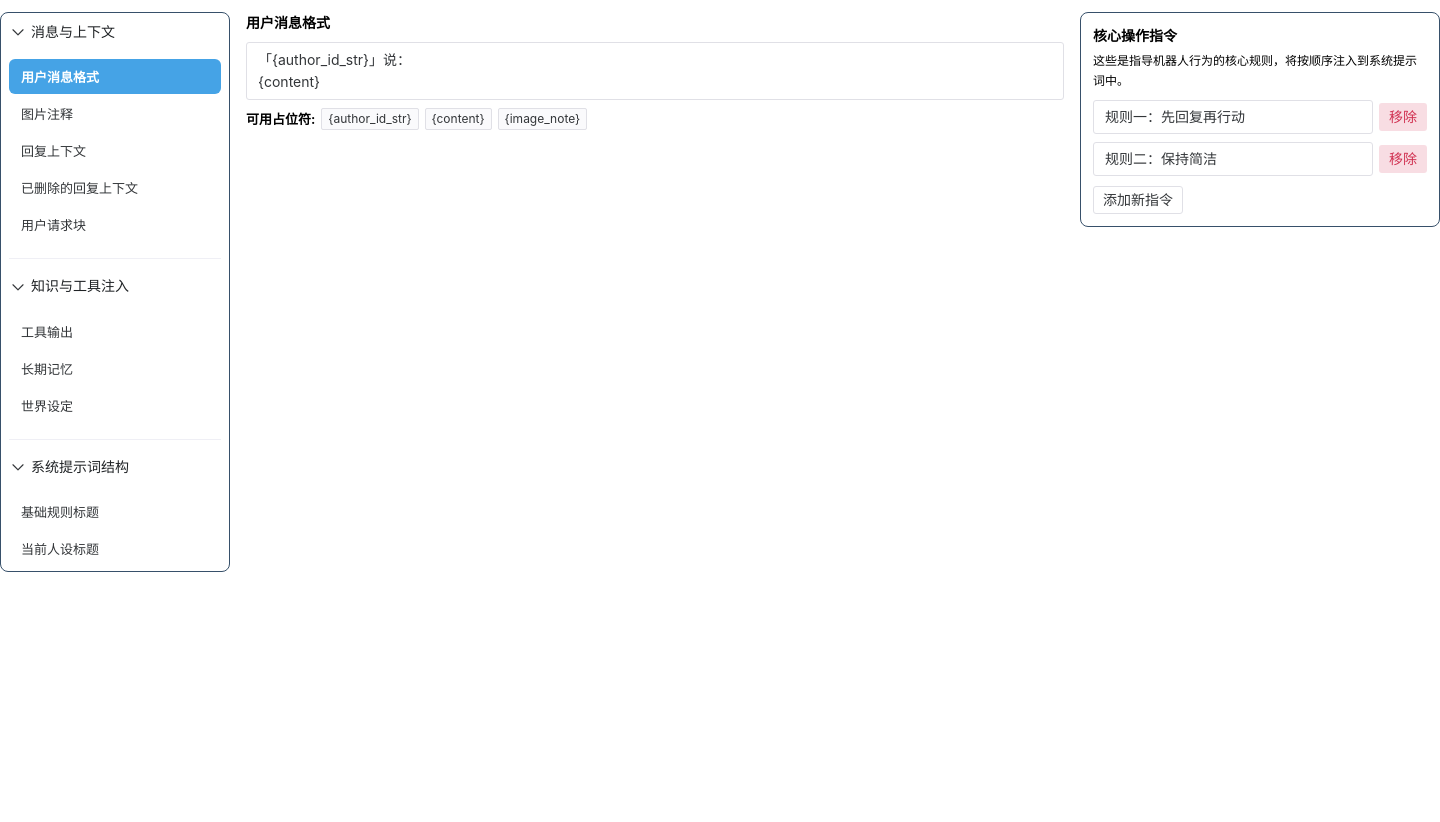
TemplateEditor — security semantic warnings (F-4) › warns on memory_context about the {data} placeholder
Click the button with class "template-editor-nav-item" showing "长期记忆" at (115, 368), box [9, 351, 221, 386]
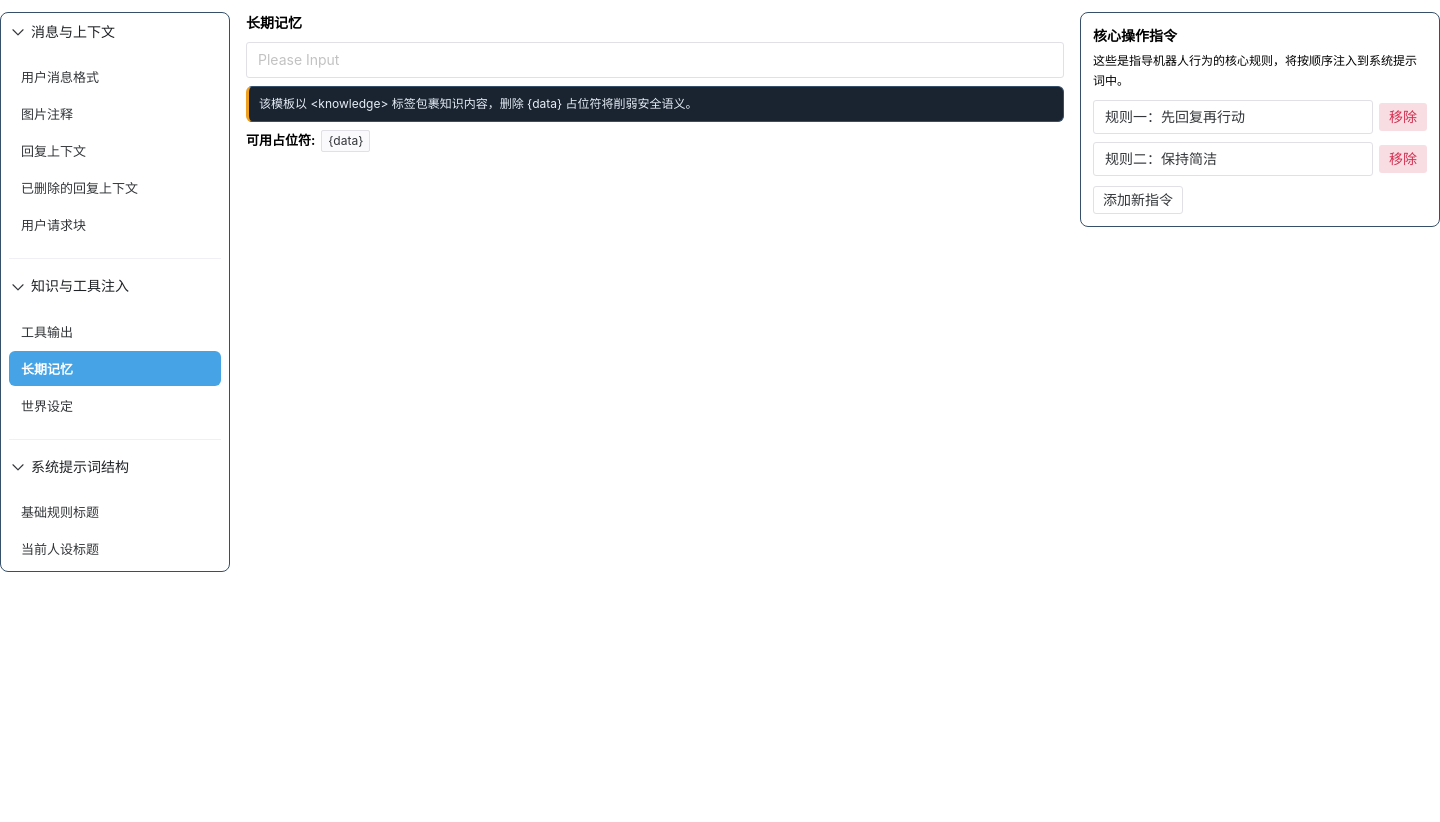
Now the message "该模板以 <knowledge> 标签包裹知识内容，删除 {data} 占位符将削弱安全语义。" is shown, box [246, 86, 1064, 122]
Now the message with class "template-editor-security-warning" shows "{data}", box [259, 96, 698, 111]
